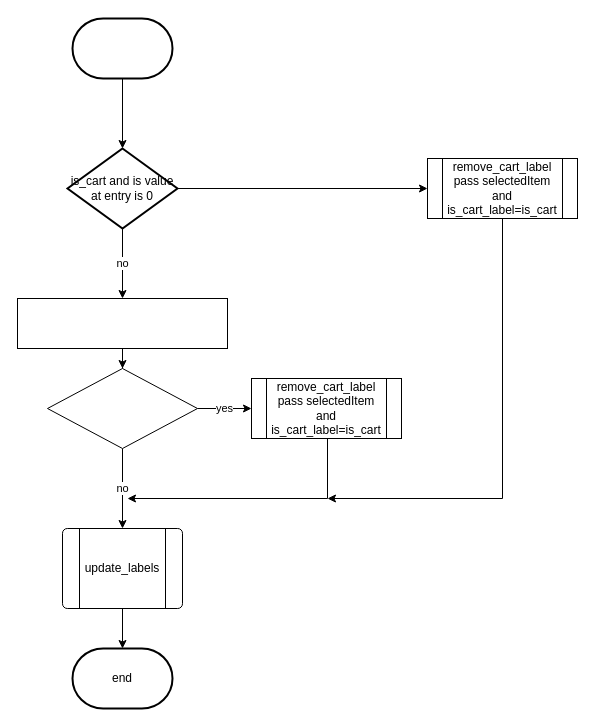
Some shapes in this 595 by 726 pixel diagram are drawn without their labels. Each missing label, with the centre of its shape:
is new value on selectedItem 0: the point at 122,408
set value of selectedItem in cart to the value in the entry passed to function: the point at 122,323
set_amt string: sn bool: is_cart string: entry: the point at 122,48
